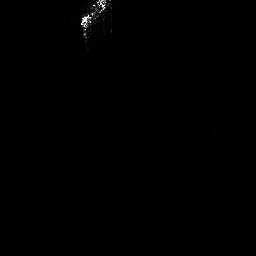ship: (77, 1, 115, 43)
